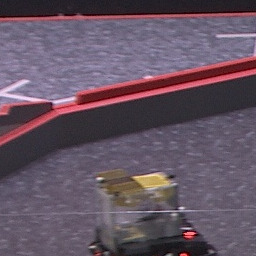Robot: (90, 170, 215, 256)
